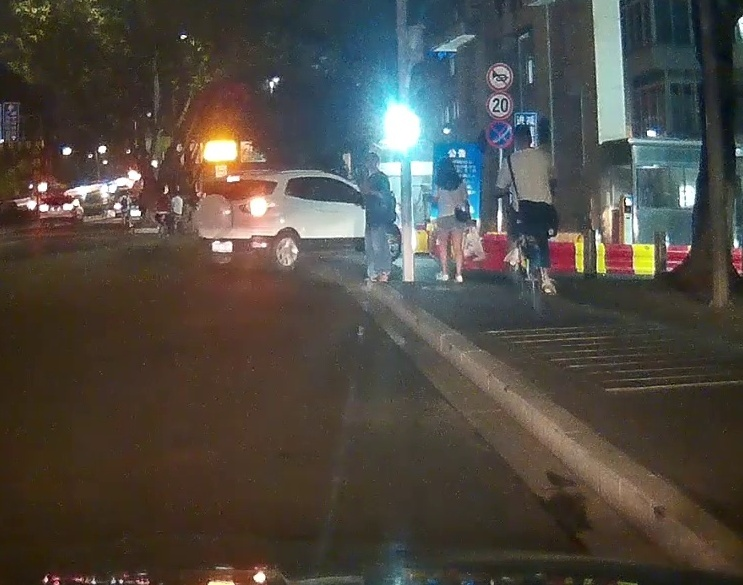L_light: (199, 203, 207, 214)
R_light: (238, 200, 276, 214)
T_light: (226, 175, 241, 183)
night-right: (192, 170, 281, 272)
